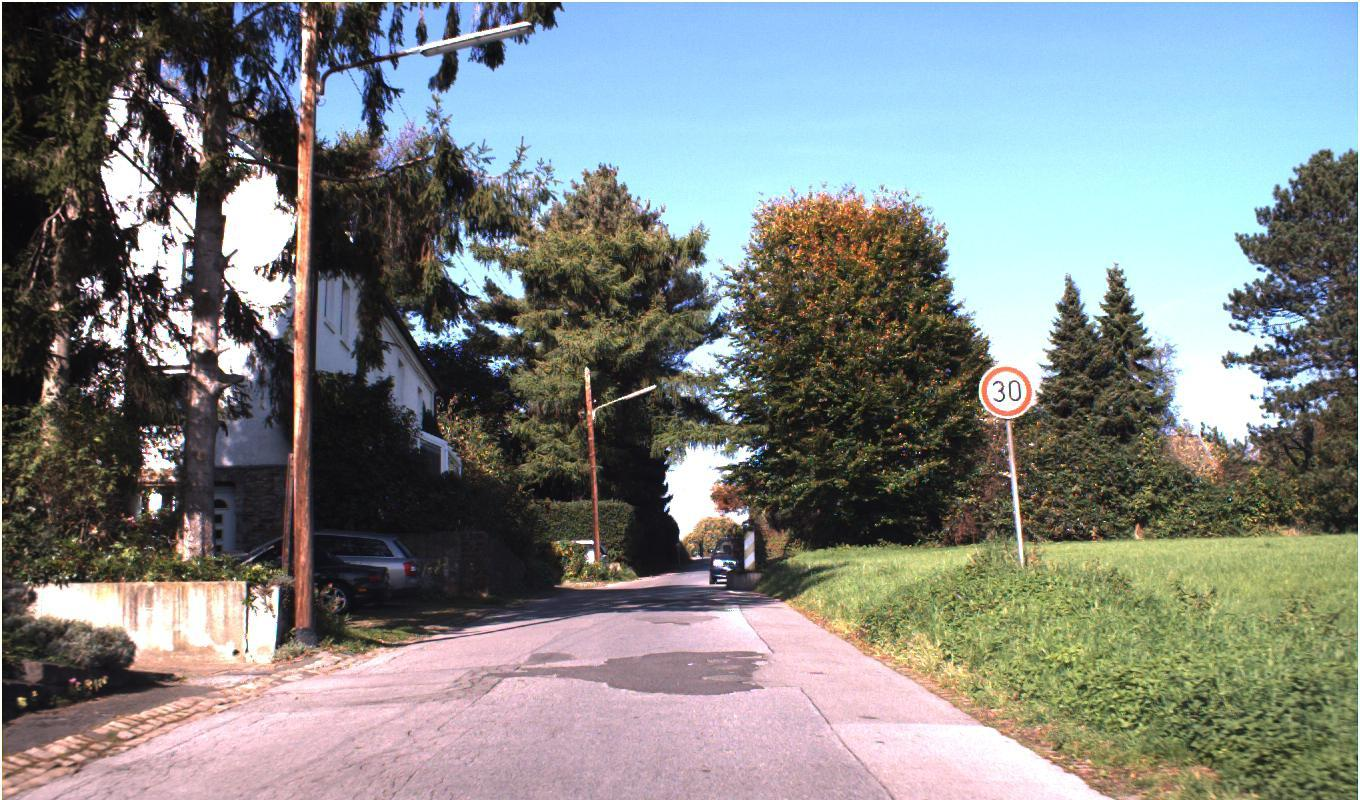speed limit 30 prohibitory: (979, 364, 1034, 418)
